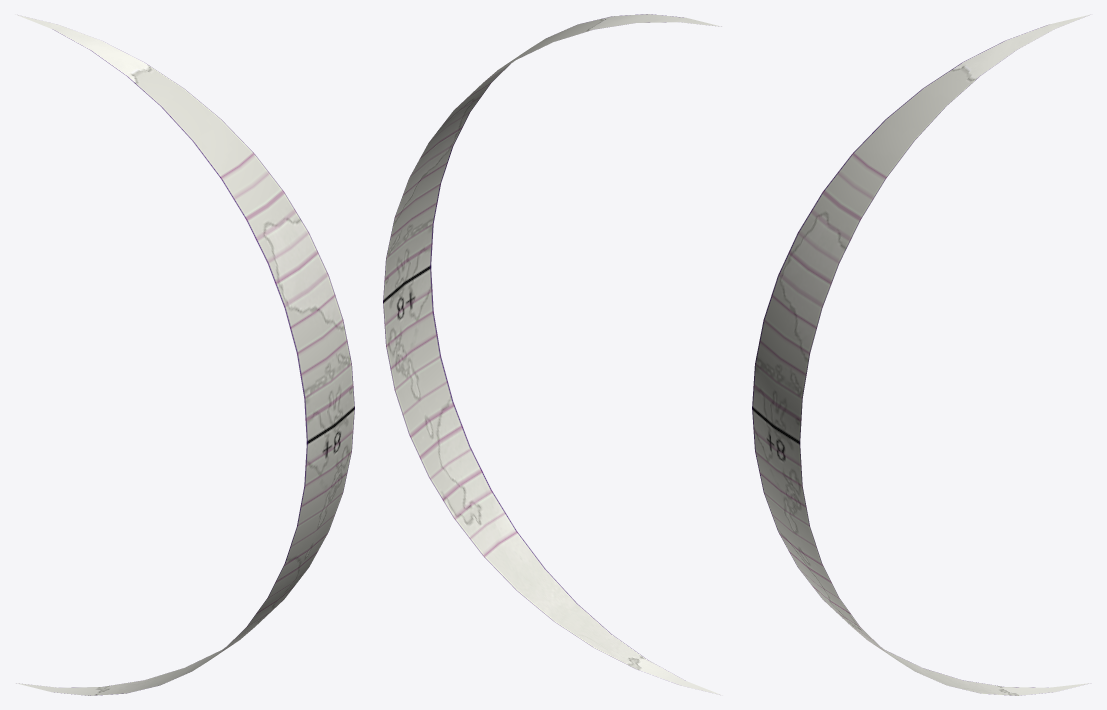
File: GMTP8.obj
3 views of the same model, side by side, from view 1: azimuth 30°, elevation 25°; view 2: azimuth 210°, elevation 25°; view 3: azimuth 270°, elevation 25° (orthographic).
Visible parts, largest first — view 1: GMTP08; view 2: GMTP08; view 3: GMTP08.
Boxes of the visible parts, box(x1,y1,x2,y2) form: GMTP08: box(15, 14, 354, 695); GMTP08: box(383, 14, 722, 695); GMTP08: box(752, 14, 1091, 695).
Bounding box in the file's own units: 156 × 512 × 236.
Materials: 1 (1 with a texture image).
